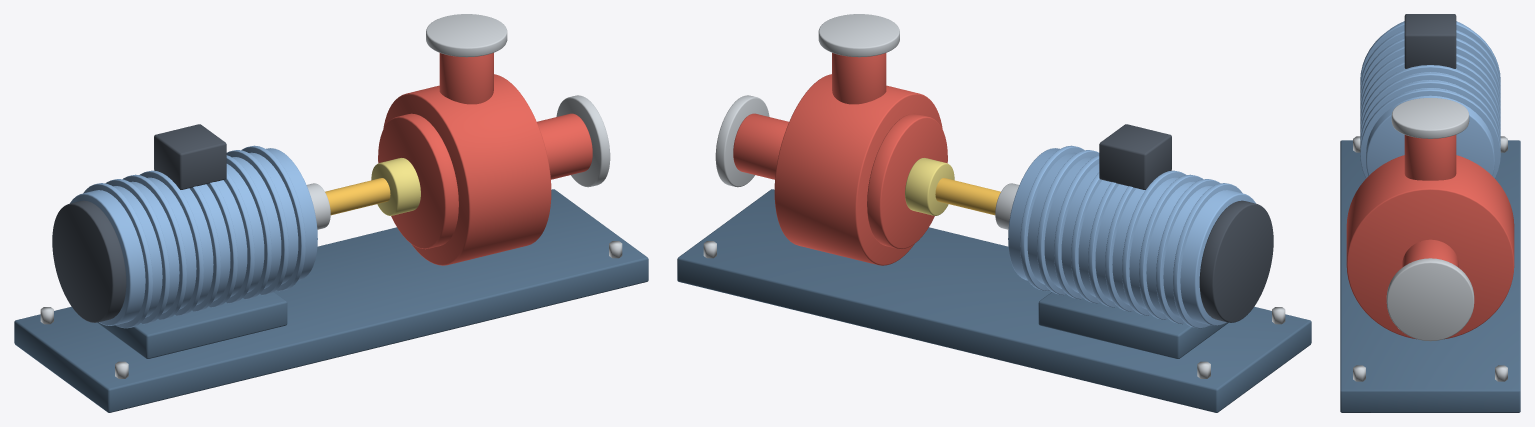
The model's file is marine_fire_pump.glb.
The picture shows the model from 3 angles, left to right: view 1: azimuth 30°, elevation 25°; view 2: azimuth 150°, elevation 25°; view 3: azimuth 270°, elevation 25°; orthographic projection. The views are drawn at different scales.
Parts seen in each view (by area): view 1: Pump_Skid, Pump_Casing, Motor_Body, Motor_End_Cap, Casing_Cover, Pump_Skid_Pedestal, Motor_Terminal_Box, Discharge_Flange, Suction_Port, Discharge_Port, Suction_Flange, Shaft_Seal (+12 smaller); view 2: Pump_Skid, Pump_Casing, Motor_Body, Motor_End_Cap, Casing_Cover, Pump_Skid_Pedestal, Motor_Terminal_Box, Discharge_Flange, Suction_Port, Discharge_Port, Suction_Flange, Shaft_Seal (+12 smaller); view 3: Pump_Skid, Pump_Casing, Suction_Flange, Motor_Body, Motor_Terminal_Box, Discharge_Flange, Discharge_Port, Motor_Cooling_Fin_10, Motor_Cooling_Fin_9, Motor_Cooling_Fin_7, Motor_Cooling_Fin_8, Suction_Port (+8 smaller).
Boxes of the visible parts, <box> form: Pump_Skid: <box>14,189,648,412</box>; Pump_Casing: <box>383,74,551,265</box>; Motor_Body: <box>70,148,317,325</box>; Motor_End_Cap: <box>52,200,126,322</box>; Casing_Cover: <box>378,113,458,249</box>; Pump_Skid_Pedestal: <box>97,292,287,358</box>; Motor_Terminal_Box: <box>154,124,226,189</box>; Discharge_Flange: <box>426,14,507,57</box>; Suction_Port: <box>537,113,592,179</box>; Discharge_Port: <box>439,53,493,104</box>; Suction_Flange: <box>556,95,610,187</box>; Shaft_Seal: <box>371,158,420,215</box>; Pump_Skid: <box>677,189,1311,412</box>; Pump_Casing: <box>774,74,942,265</box>; Motor_Body: <box>1008,148,1255,325</box>; Motor_End_Cap: <box>1199,200,1273,322</box>; Casing_Cover: <box>867,113,947,249</box>; Pump_Skid_Pedestal: <box>1038,292,1228,358</box>; Motor_Terminal_Box: <box>1099,124,1171,189</box>; Discharge_Flange: <box>818,14,899,57</box>; Suction_Port: <box>733,113,788,179</box>; Discharge_Port: <box>832,53,886,104</box>; Suction_Flange: <box>715,95,769,187</box>; Shaft_Seal: <box>905,158,954,215</box>; Pump_Skid: <box>1340,140,1520,412</box>; Pump_Casing: <box>1346,155,1514,339</box>; Suction_Flange: <box>1386,258,1474,341</box>; Motor_Body: <box>1366,21,1494,175</box>; Motor_Terminal_Box: <box>1404,14,1456,68</box>; Discharge_Flange: <box>1391,98,1469,138</box>; Discharge_Port: <box>1404,135,1456,180</box>; Motor_Cooling_Fin_10: <box>1360,88,1500,178</box>; Motor_Cooling_Fin_9: <box>1360,80,1500,147</box>; Motor_Cooling_Fin_7: <box>1360,65,1500,131</box>; Motor_Cooling_Fin_8: <box>1360,73,1500,139</box>; Suction_Port: <box>1402,239,1458,267</box>.
Bounding box in the file's own units: 4.6 × 2.03 × 1.4.
